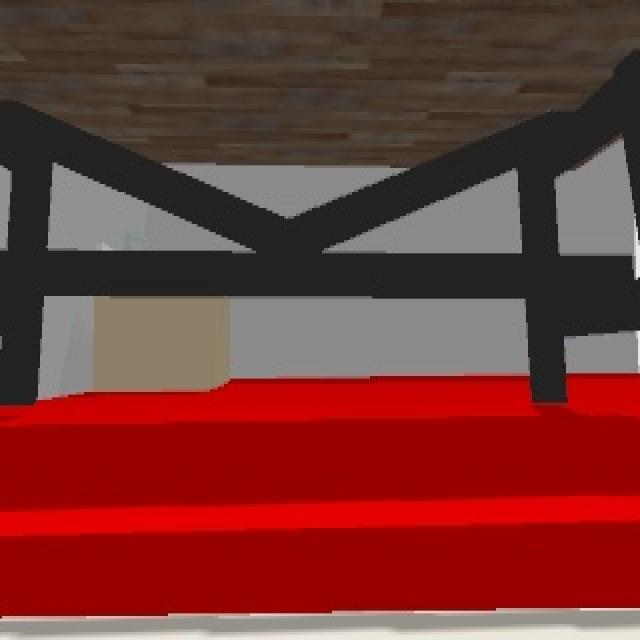dining: (3, 4, 640, 400)
